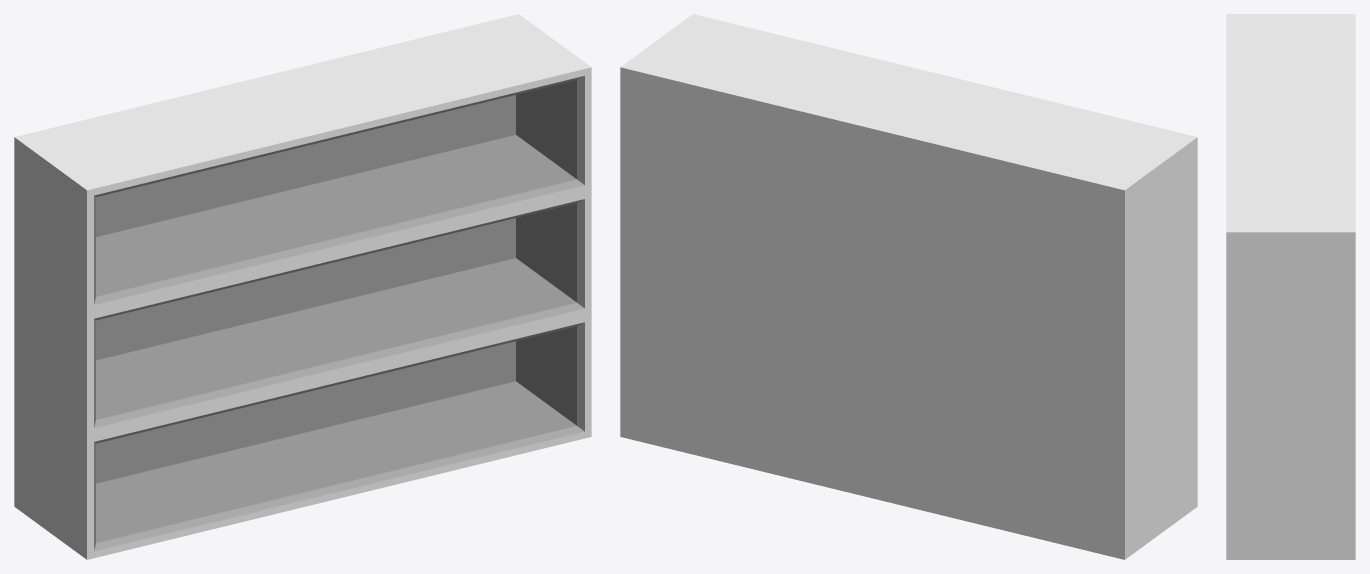
Rendered from Prop_Shelve_01.fbx.
3 views of the same model, side by side, from view 1: azimuth 30°, elevation 25°; view 2: azimuth 150°, elevation 25°; view 3: azimuth 270°, elevation 25° (orthographic). The views are drawn at different scales.
Visible parts, largest first — view 1: Prop_Shelve_01; view 2: Prop_Shelve_01; view 3: Prop_Shelve_01.
Boxes of the visible parts, bbox=[...] form: Prop_Shelve_01: bbox=[14, 14, 591, 559]; Prop_Shelve_01: bbox=[620, 14, 1197, 559]; Prop_Shelve_01: bbox=[1226, 14, 1355, 559].
Bounding box in the file's own units: 200 × 140 × 50.
